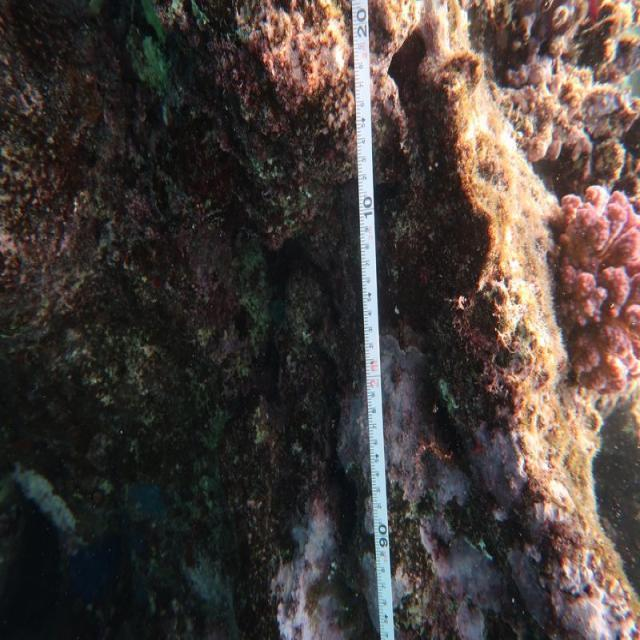Healthy Coral: (558, 163, 640, 404)
